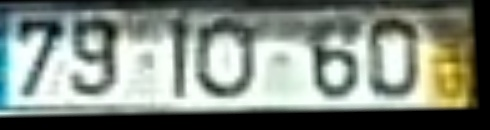0: (364, 15, 424, 104)
6: (308, 16, 363, 104)
7: (16, 17, 67, 103)
9: (67, 16, 122, 102)
I: (169, 17, 191, 103)
O: (194, 17, 261, 103)
